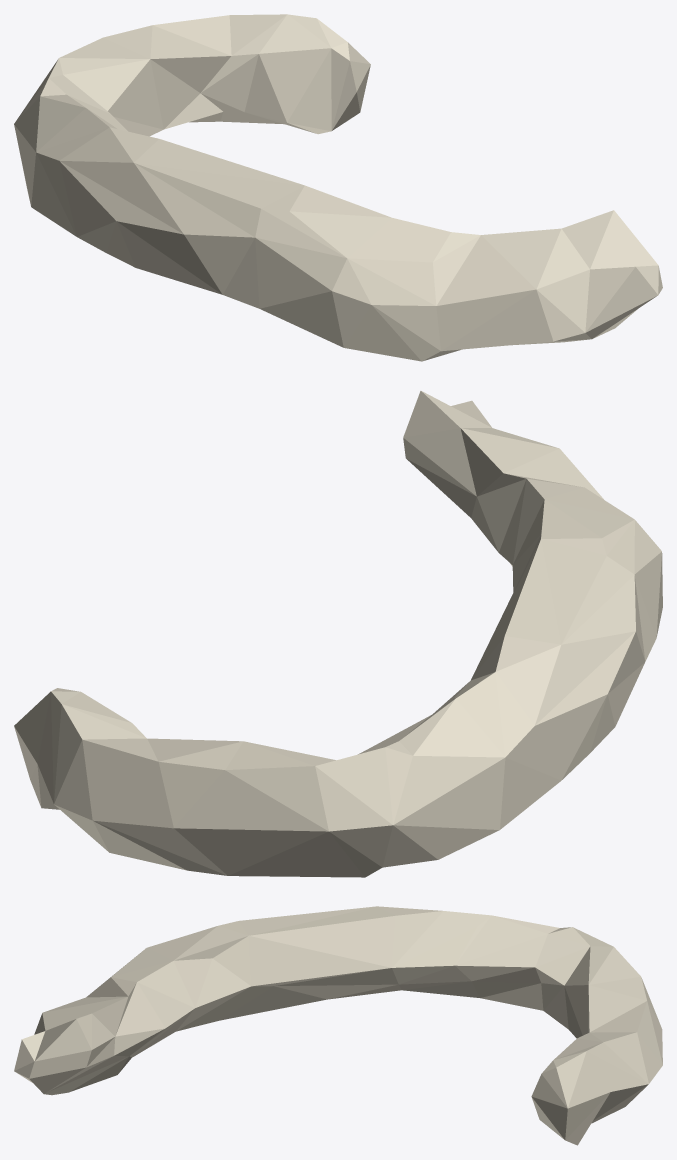
Rendered from Bone5.fbx.
The picture shows the model from 3 angles, top to bottom: view 1: azimuth 30°, elevation 25°; view 2: azimuth 150°, elevation 25°; view 3: azimuth 270°, elevation 25°; orthographic projection. The views are drawn at different scales.
Parts seen in each view (by area): view 1: Bone5; view 2: Bone5; view 3: Bone5.
Boxes of the visible parts, <box> form: Bone5: <box>14,14,662,361</box>; Bone5: <box>14,391,662,877</box>; Bone5: <box>14,906,662,1145</box>.
Bounding box in the file's own units: 60.15 × 21.34 × 107.
